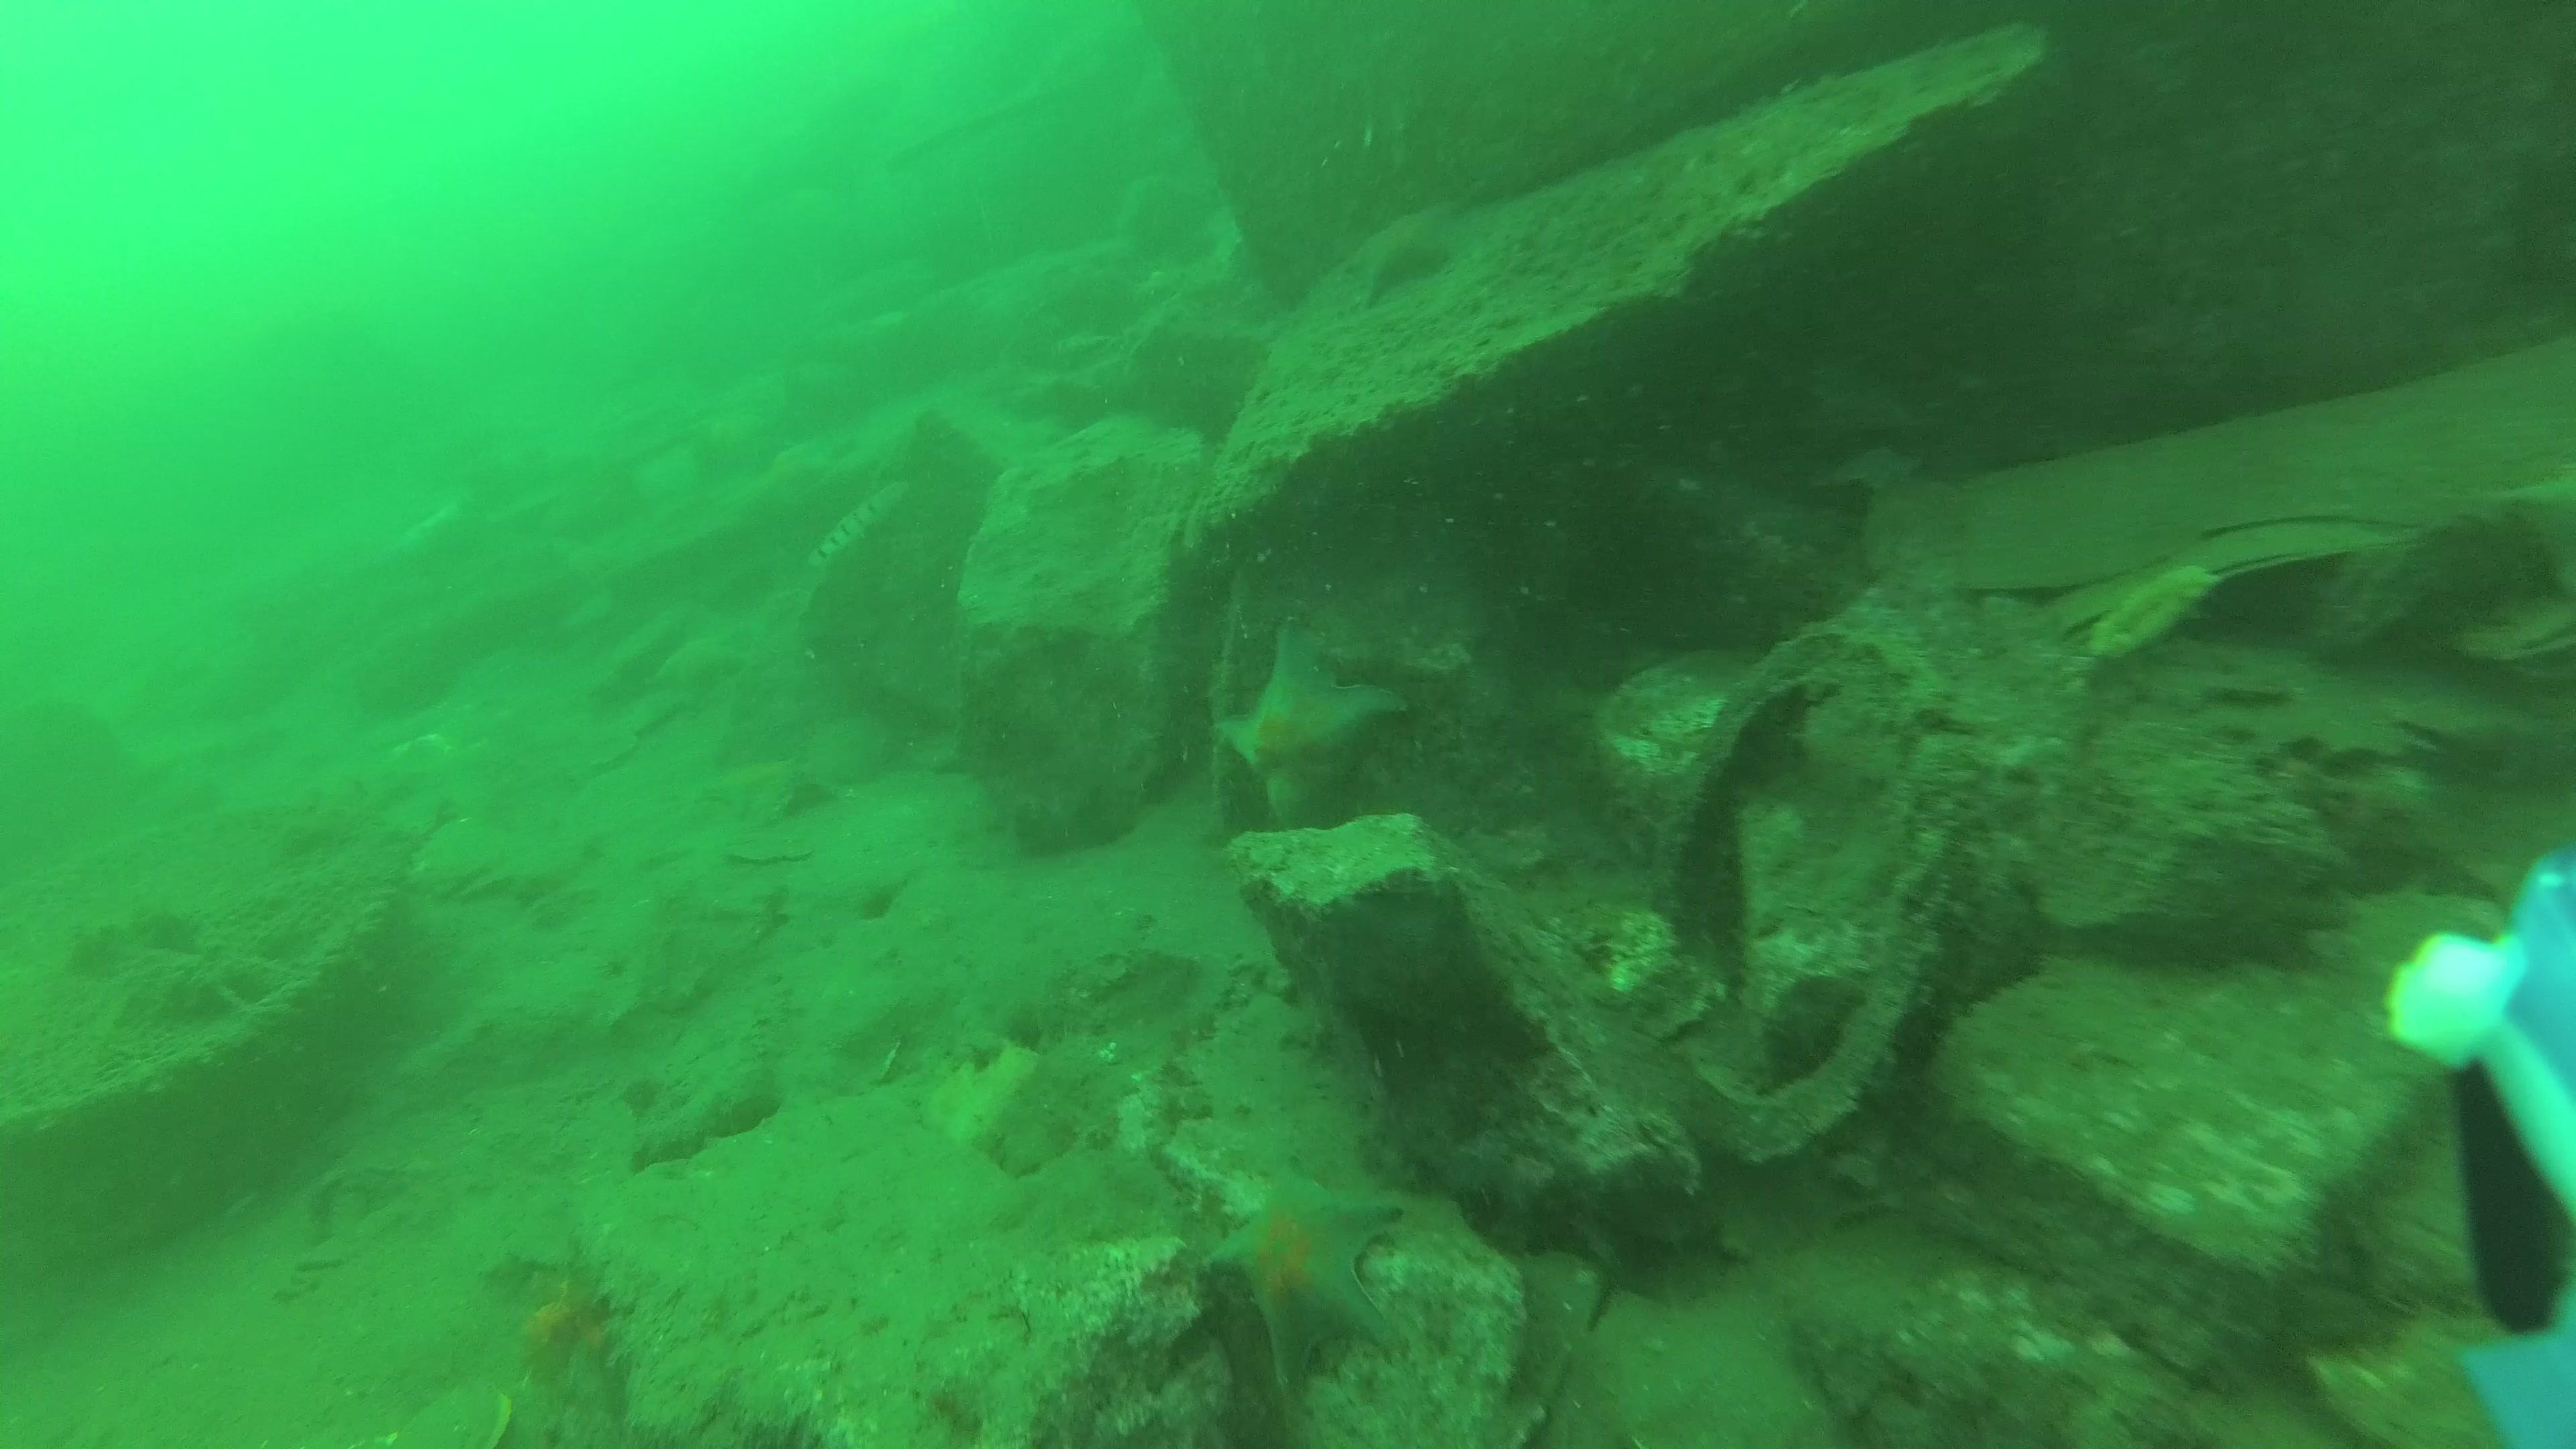starfish: (1203, 1182, 1410, 1396), (1219, 612, 1399, 830), (1338, 211, 1458, 308)
